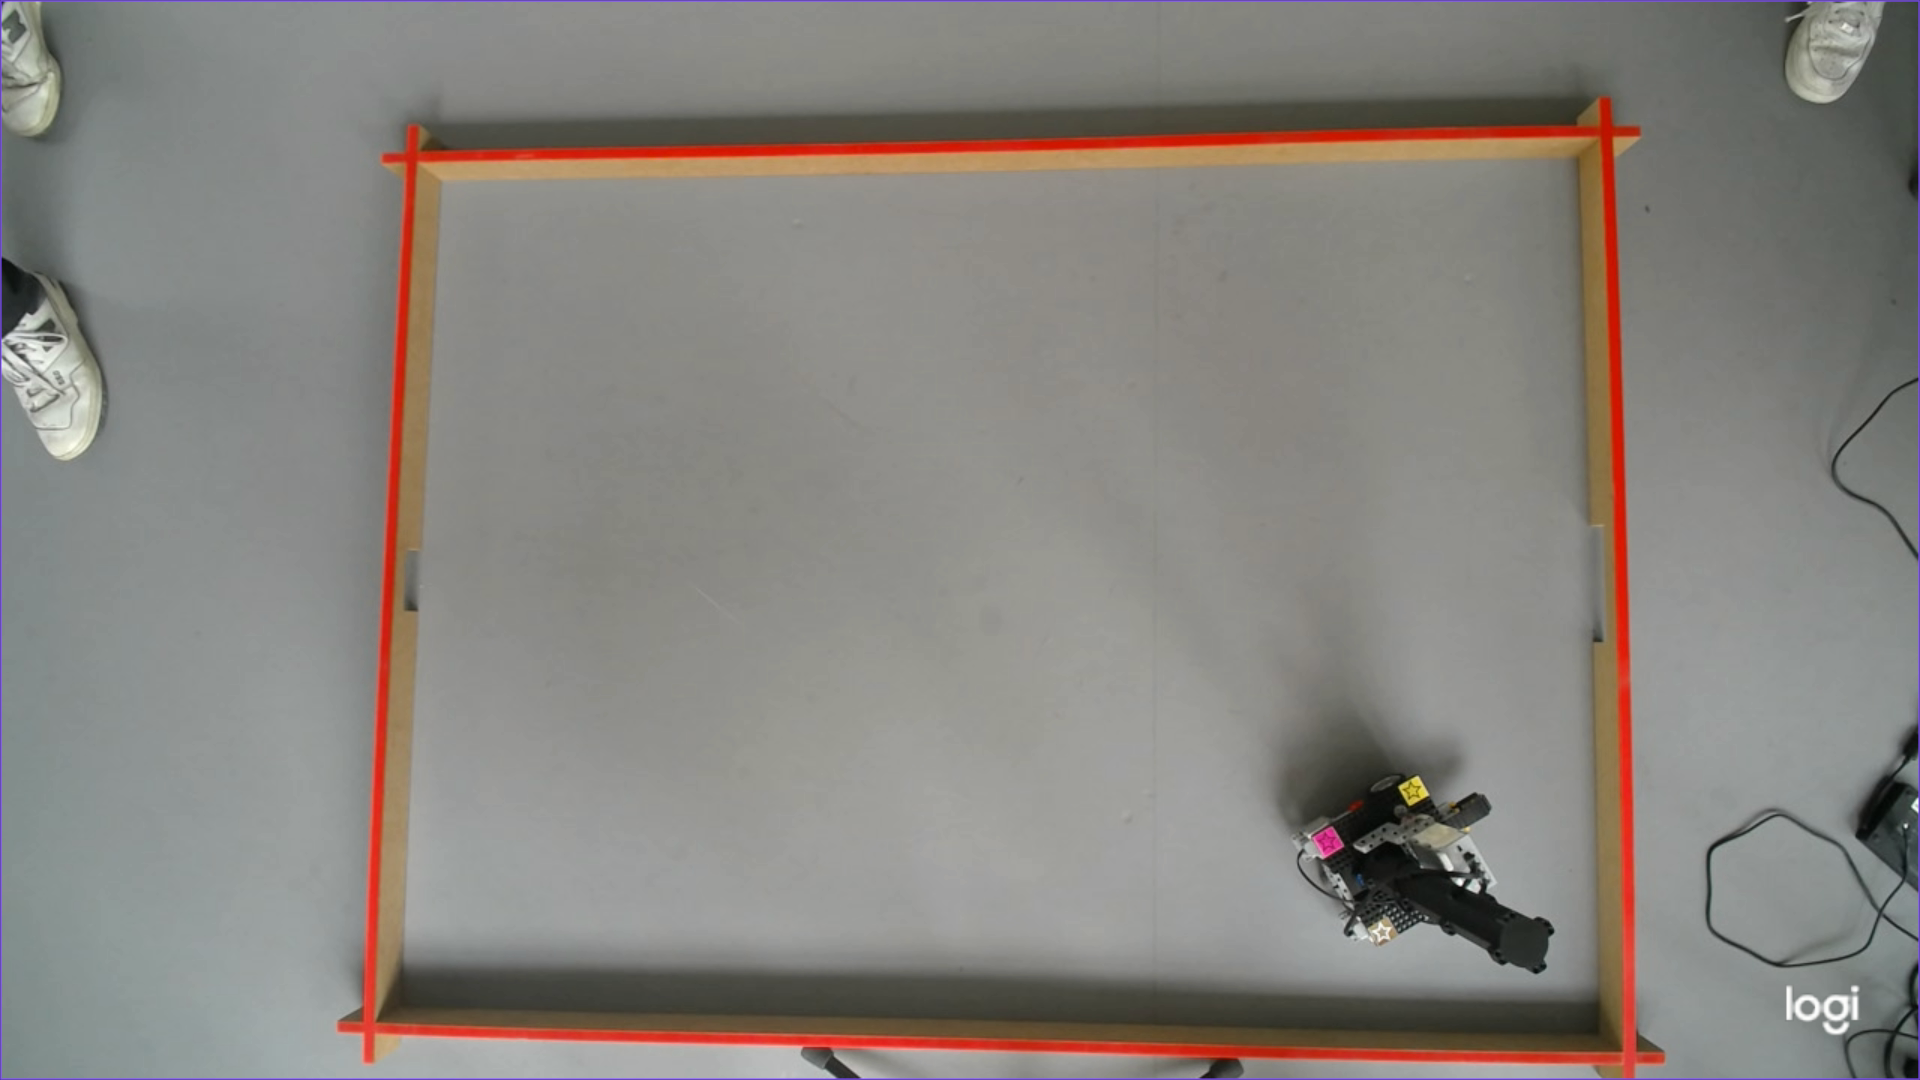corner_brown: (1368, 916, 1395, 943)
corner_pink: (1312, 826, 1343, 857)
corner_yellow: (1398, 774, 1429, 805)
playfield: (344, 131, 1646, 1073)
playfield_corner: (395, 136, 432, 176), (1589, 109, 1626, 149), (1613, 1035, 1650, 1075), (351, 1005, 388, 1045)
